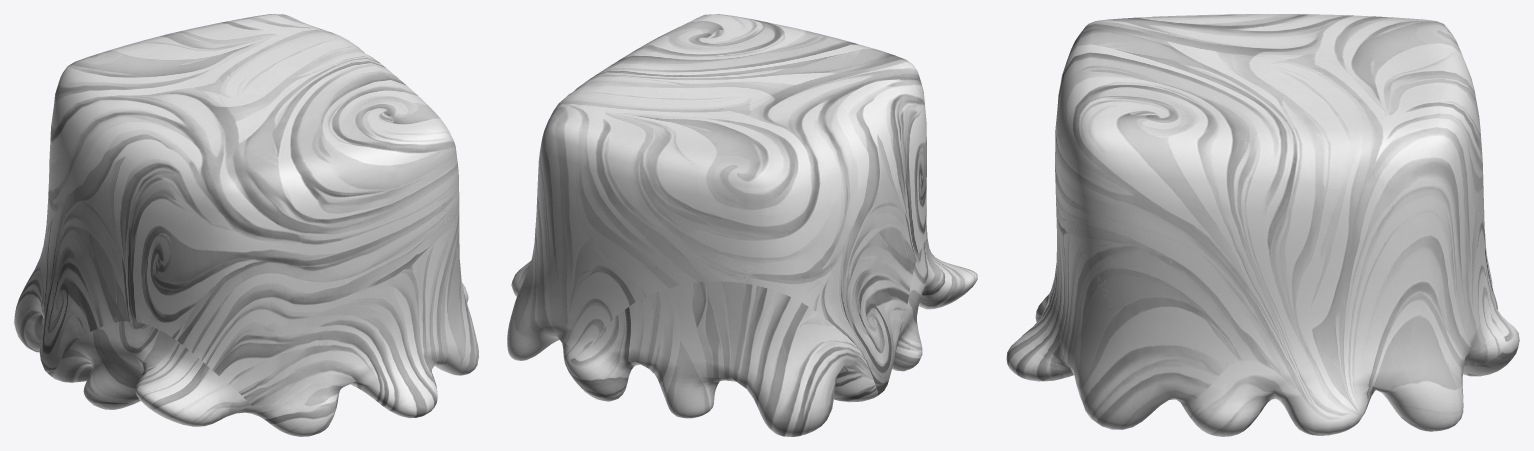
File: Block_Texturiert_Flach.fbx
3 renders of one model, left to right at view 1: azimuth 30°, elevation 25°; view 2: azimuth 150°, elevation 25°; view 3: azimuth 270°, elevation 25°, orthographic. The views are drawn at different scales.
Parts seen in each view (by area): view 1: Block; view 2: Block; view 3: Block.
Part boxes in pixels (left/top/right/bottom): Block: left=14, top=14, right=478, bottom=436; Block: left=507, top=14, right=977, bottom=436; Block: left=1006, top=14, right=1519, bottom=436.
Bounding box in the file's own units: 2699 × 1817 × 2851.
Materials: 1 (1 with a texture image).
